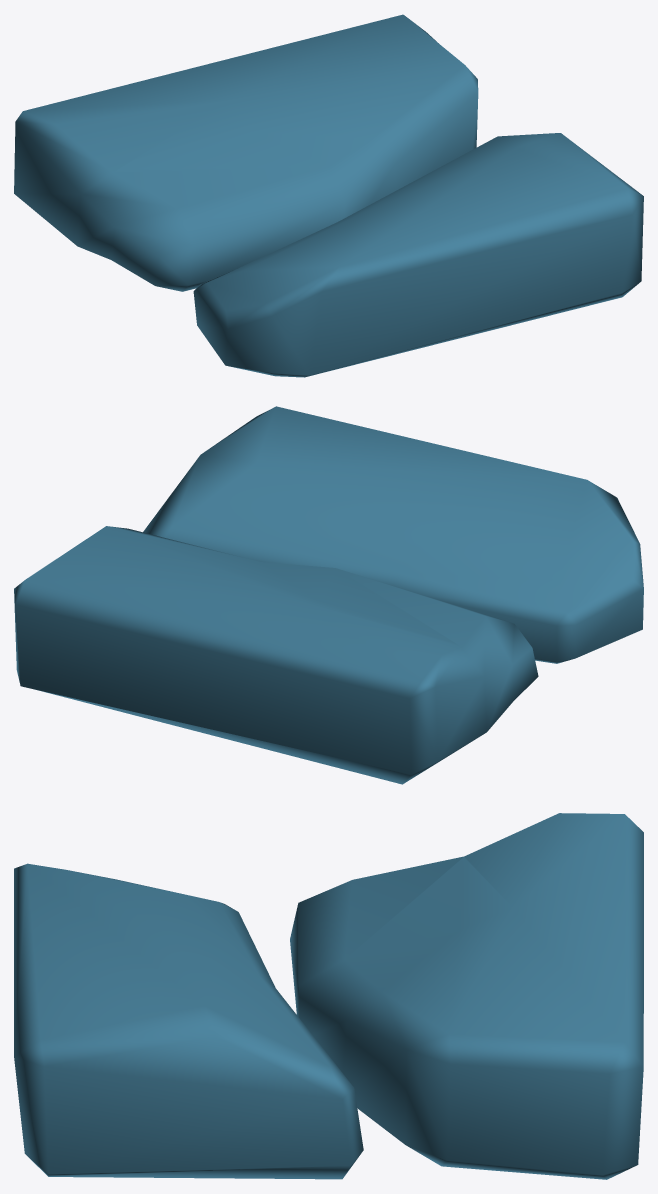
File: Floor_05B_Slab_Lod0.fbx
The picture shows the model from 3 angles, top to bottom: view 1: azimuth 30°, elevation 25°; view 2: azimuth 150°, elevation 25°; view 3: azimuth 270°, elevation 25°; orthographic projection. The views are drawn at different scales.
Parts seen in each view (by area): view 1: Floor_05B_Slab_Lod0; view 2: Floor_05B_Slab_Lod0; view 3: Floor_05B_Slab_Lod0.
Part boxes in pixels (<box>): Floor_05B_Slab_Lod0: <box>14,14,643,377</box>; Floor_05B_Slab_Lod0: <box>14,406,643,784</box>; Floor_05B_Slab_Lod0: <box>14,813,643,1179</box>.
Bounding box in the file's own units: 36.32 × 9.85 × 38.51.
